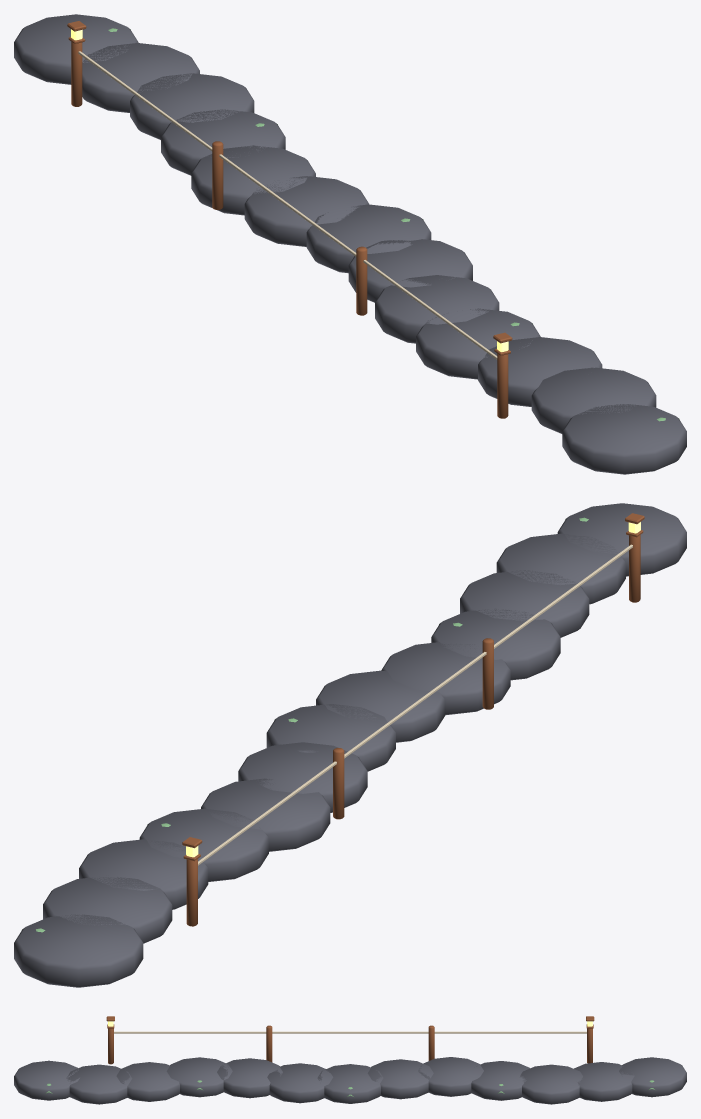
The picture shows the model from 3 angles, top to bottom: view 1: azimuth 30°, elevation 25°; view 2: azimuth 150°, elevation 25°; view 3: azimuth 270°, elevation 25°; orthographic projection. The views are drawn at different scales.
Visible parts, largest first — view 1: basalt, toasted_wood, cream_rope; view 2: basalt, toasted_wood, cream_rope; view 3: basalt, cream_rope, toasted_wood.
Part boxes in pixels (x1,y1,x2,y2): basalt: [14, 14, 686, 474]; toasted_wood: [67, 21, 512, 418]; cream_rope: [78, 51, 497, 359]; basalt: [14, 503, 686, 987]; toasted_wood: [182, 513, 644, 926]; cream_rope: [198, 544, 632, 865]; basalt: [14, 1057, 686, 1104]; cream_rope: [114, 1031, 586, 1033]; toasted_wood: [106, 1016, 594, 1064].
Size of the model in its own units: 2.49 by 1.51 by 18.26.
